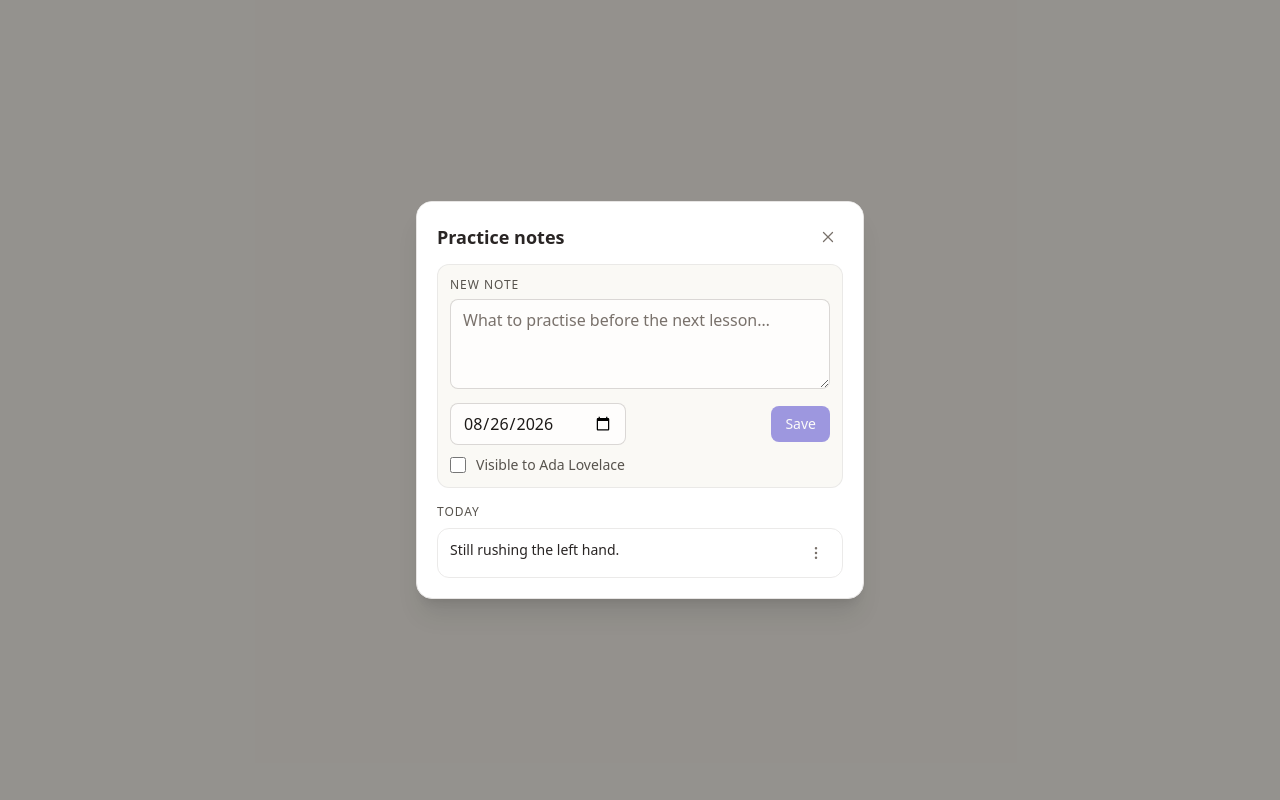
it: NotesPanel — the teacher’s journal › shares an existing private note from its actions
Step 1. Click the button named "Note actions" → (816, 553), box [802,539,830,567]
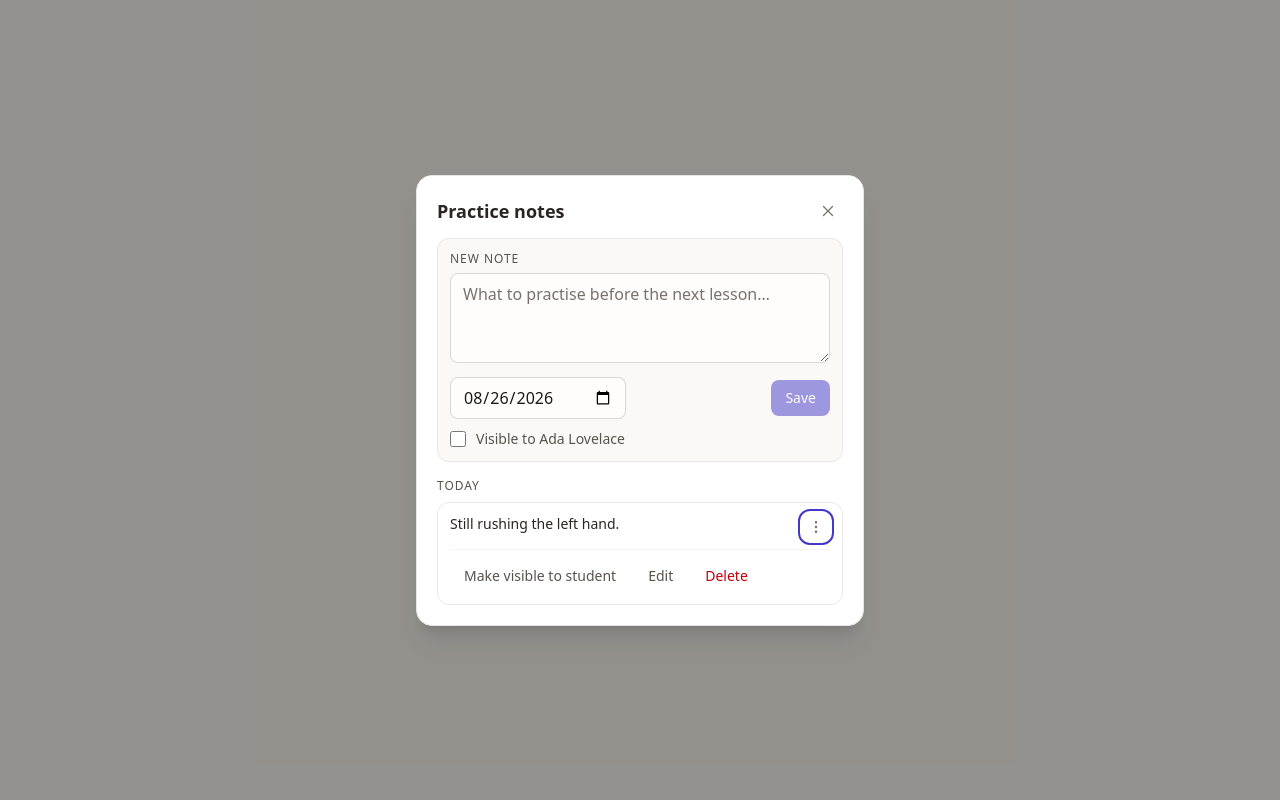
Step 2. Click the button "Make visible to student" → (540, 576), box [450,558,630,594]
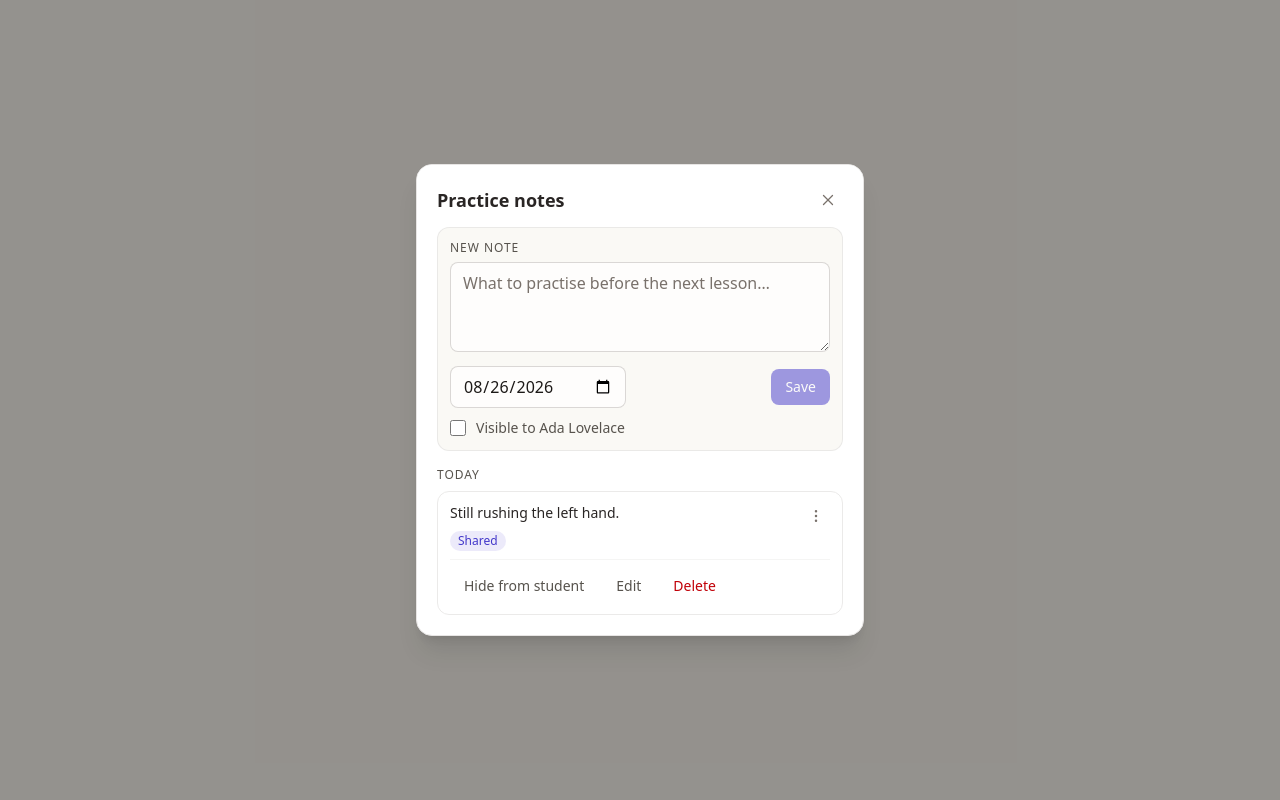
Expected: the text "Shared" is shown, [450,531,506,551]
